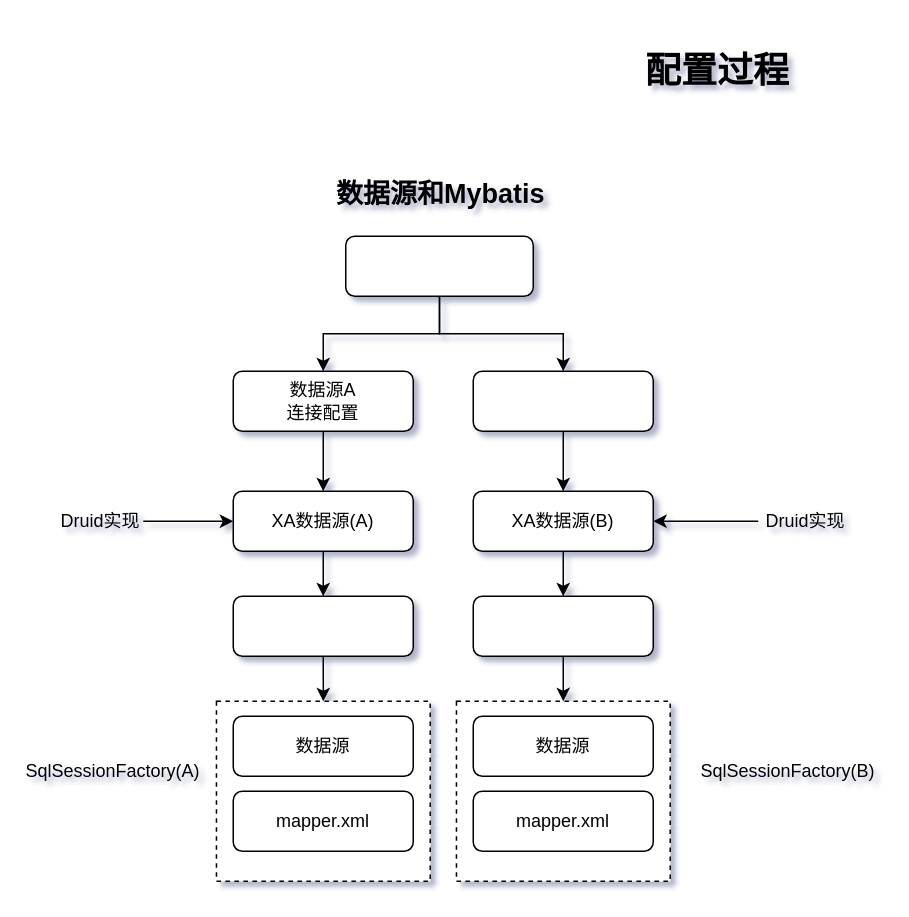
Image size: 909x917. Some labels were removed from this diagram. Here are the shapes that lost their labels. From the top down, the centre of each, then its label:
At [438,265]: "配置文件或consul".
At [562,400]: "数据源B 连接配置".
At [322,625]: "Atomikos数据源(A)".
At [562,625]: "Atomikos数据源(B)".
